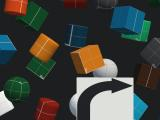Right: (76, 77, 134, 120)
